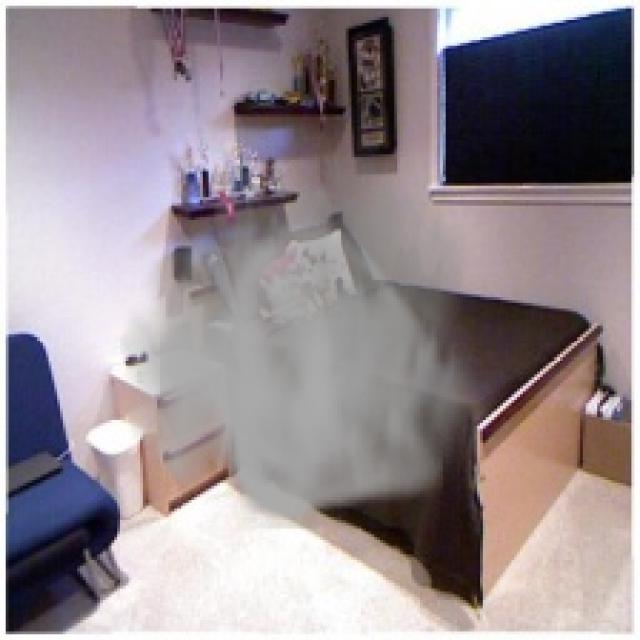smoke: (120, 111, 491, 528)
